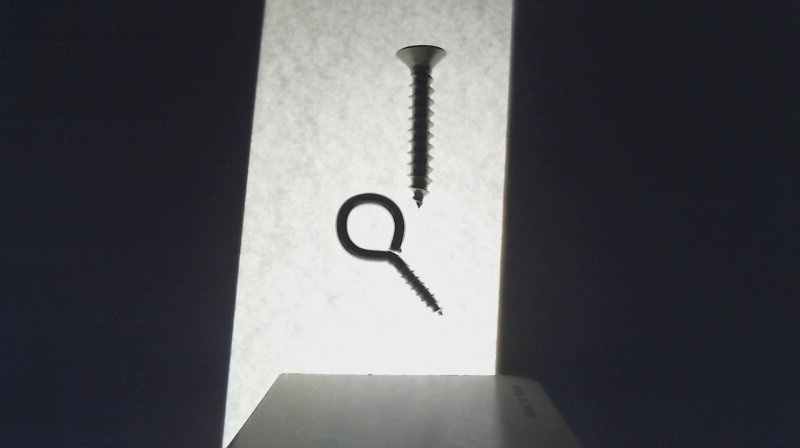O001: (335, 190, 444, 315)
S001: (395, 44, 447, 209)
